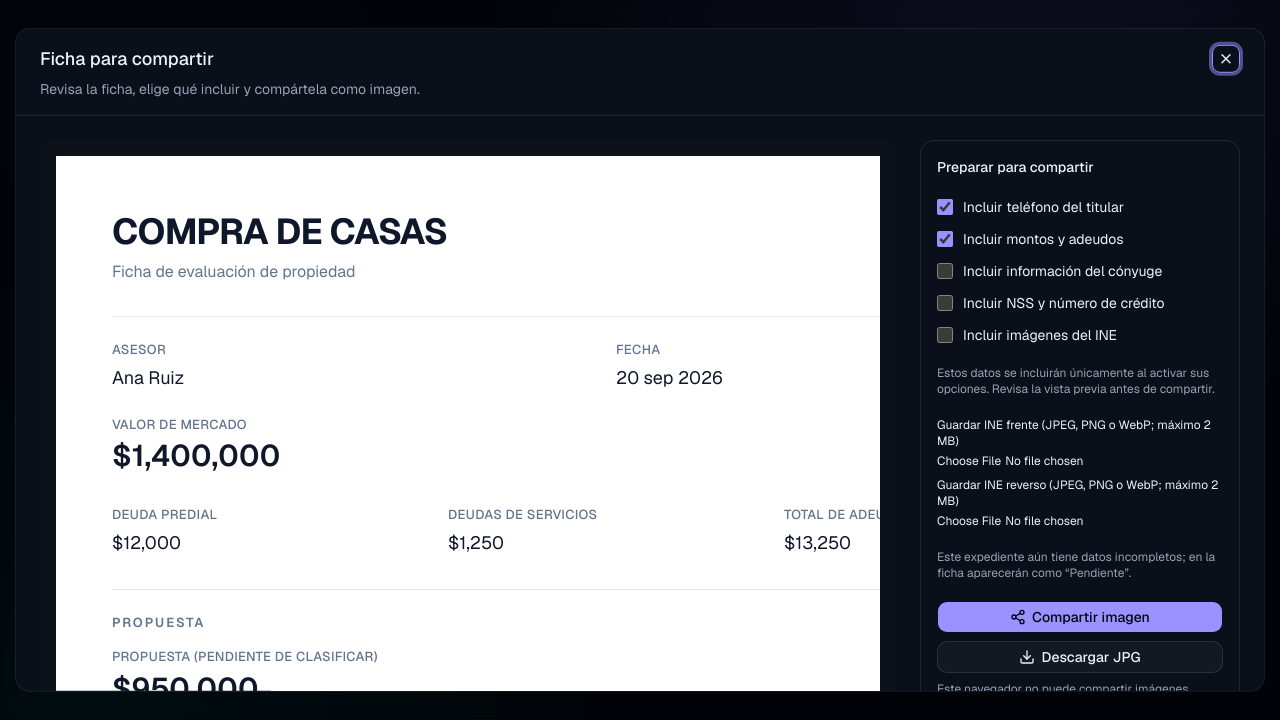
Test: RenovaShareDialog — JPG export › Descargar JPG downloads a file named after the short id — never the owner or the UUID
The image size is (1280, 720).
Click the button "Descargar JPG".
click(1080, 657)  # box 937,641 -> 1223,673
(page scrolled)
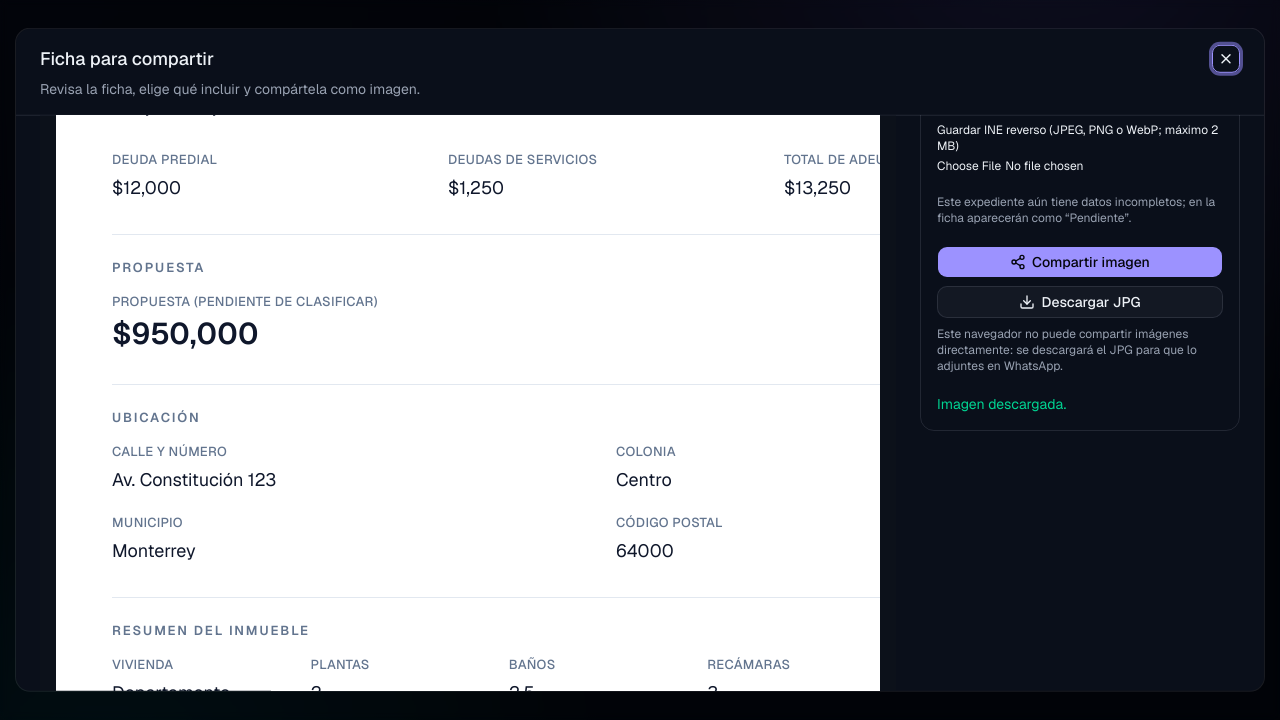
Expected: the text "Imagen descargada." is shown, 937,395 -> 1066,413
